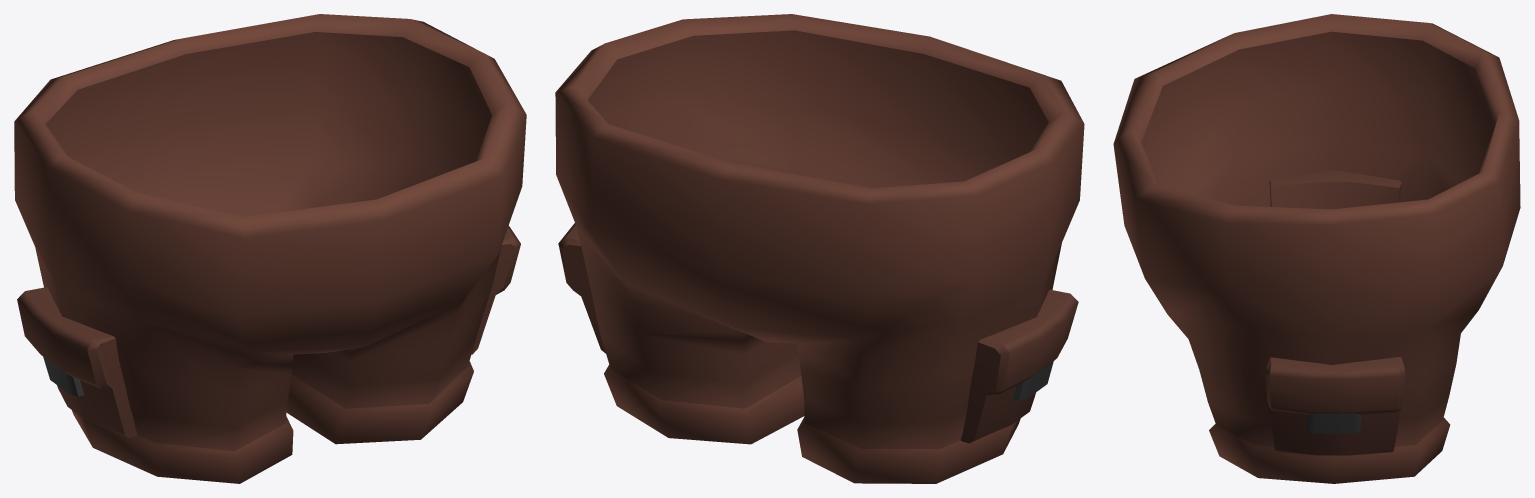
The picture shows the model from 3 angles, left to right: view 1: azimuth 30°, elevation 25°; view 2: azimuth 150°, elevation 25°; view 3: azimuth 270°, elevation 25°; orthographic projection. The views are drawn at different scales.
Parts seen in each view (by area): view 1: Bottom_43.001; view 2: Bottom_43.001; view 3: Bottom_43.001.
Part boxes in pixels (x1,y1,x2,y2): Bottom_43.001: [14, 14, 526, 483]; Bottom_43.001: [555, 14, 1084, 483]; Bottom_43.001: [1113, 14, 1520, 483].
Size of the model in its own units: 52.78 by 35.57 by 42.9.
